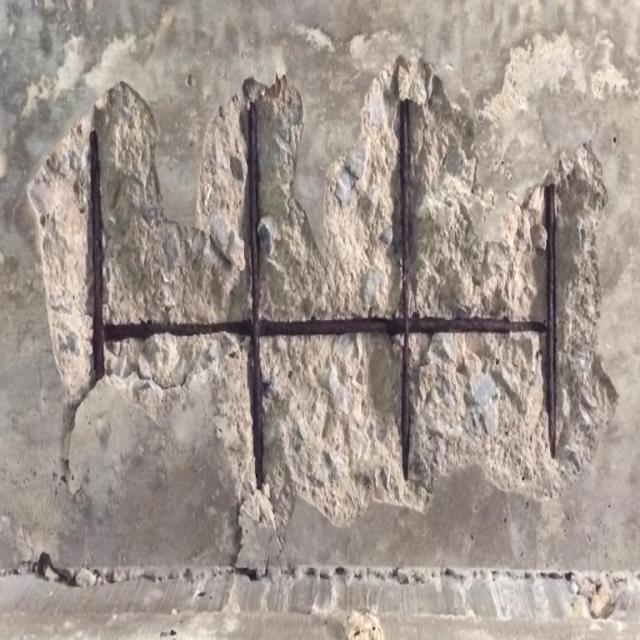Rebar: (35, 57, 631, 528)
